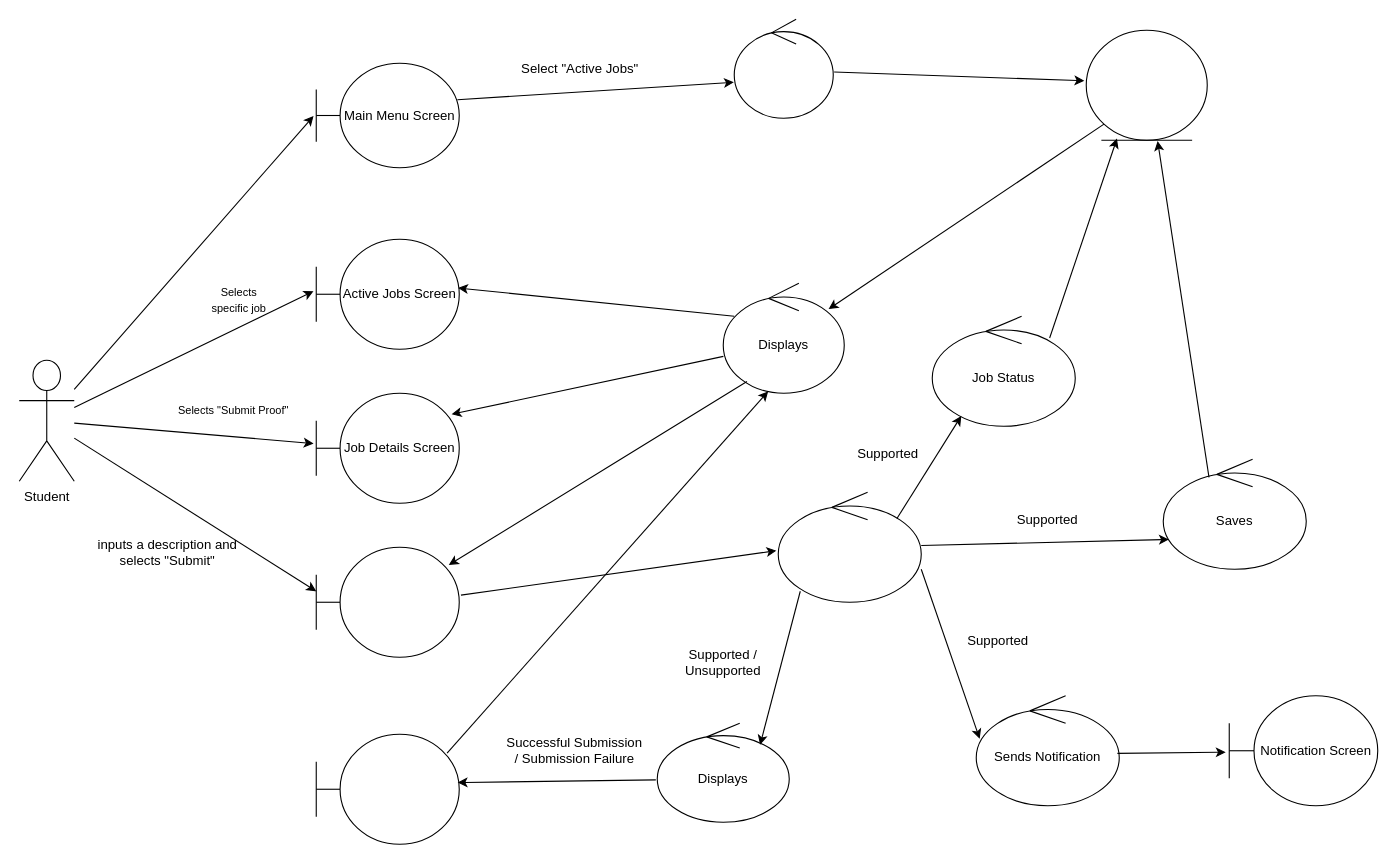
Image size: 1397x864. Some labels were removed from this diagram. Each missing label, with the box of its shape:
Database: (1085, 29, 1207, 140)
Message Screen: (315, 733, 459, 844)
Proof Submission Form Sceen: (315, 546, 459, 657)
Retrieves: (733, 18, 833, 118)
Supported Format Validation: (777, 491, 921, 602)
